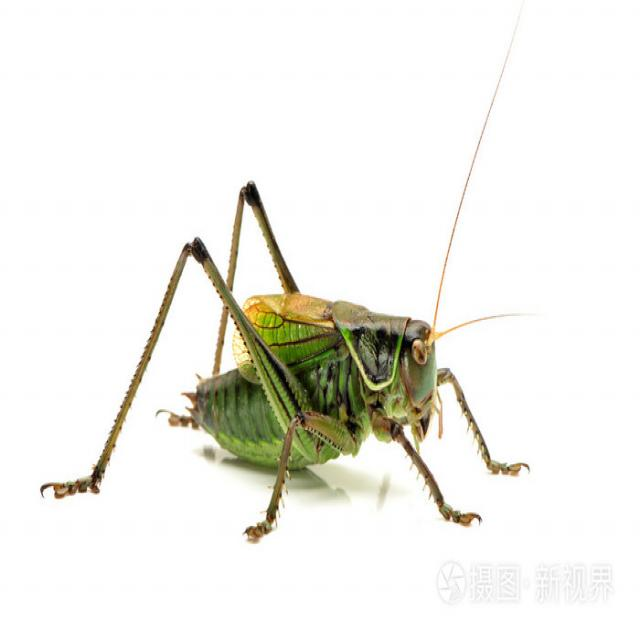ZhaMeng: (82, 168, 532, 532)
